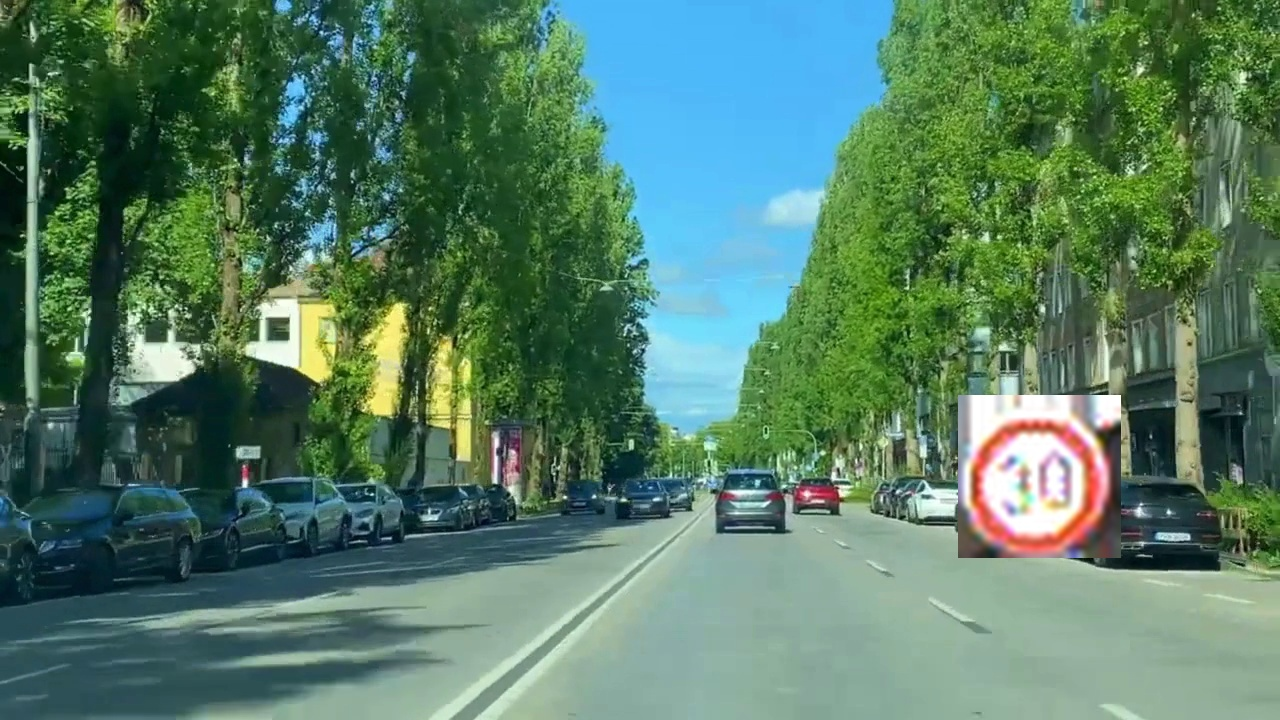Speed 30: (958, 395, 1121, 558)
